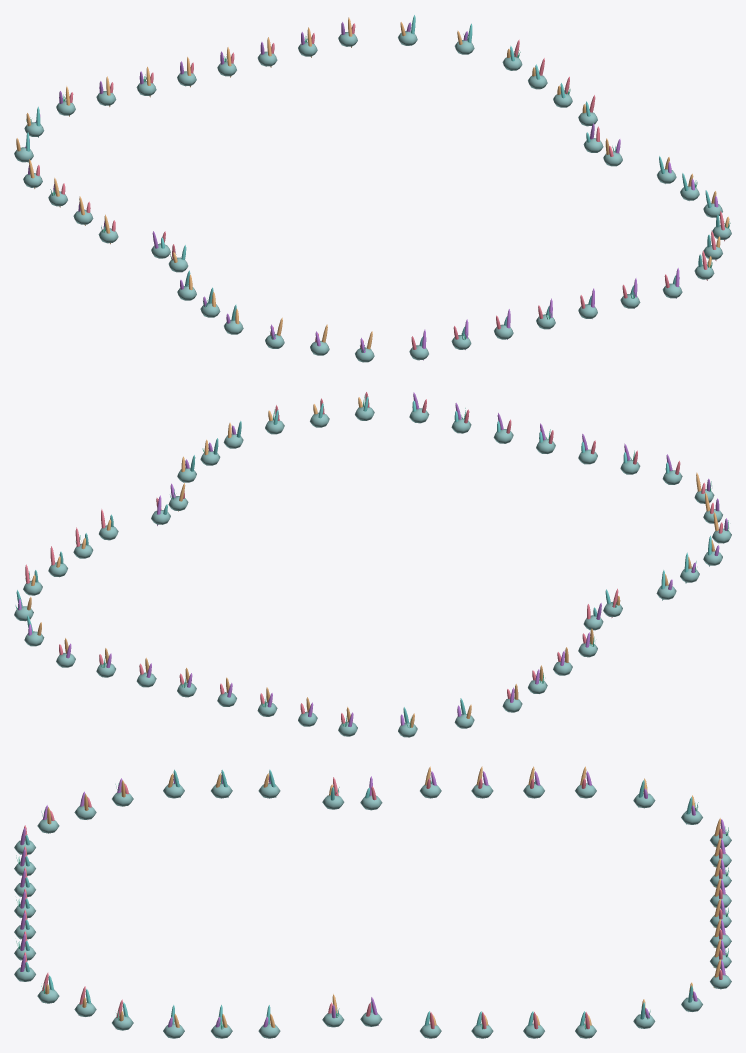
The model's file is reef-10-AQXq0qiZ.glb.
3 renders of one model, top to bottom at view 1: azimuth 30°, elevation 25°; view 2: azimuth 150°, elevation 25°; view 3: azimuth 270°, elevation 25°, orthographic. The views are drawn at different scales.
Parts seen in each view (by area): view 1: ReefRock, Coral2, Coral1, Coral0, Coral3; view 2: ReefRock, Coral1, Coral2, Coral0, Coral3; view 3: ReefRock, Coral2, Coral1, Coral3, Coral0.
Boxes of the visible parts, x1,y1,x2,y2 form: ReefRock: (14,31,731,362); Coral2: (16,17,729,349); Coral1: (25,22,718,360); Coral0: (36,23,724,349); Coral3: (26,15,719,346); ReefRock: (14,406,731,737); Coral1: (18,392,727,726); Coral2: (27,397,718,727); Coral0: (25,392,722,723); Coral3: (16,396,711,723); ReefRock: (14,783,731,1038); Coral2: (45,766,720,1027); Coral1: (20,771,725,1027); Coral3: (25,769,692,1025); Coral0: (23,777,722,1038).
Size of the model in its own units: 37 by 2.06 by 45.1.
